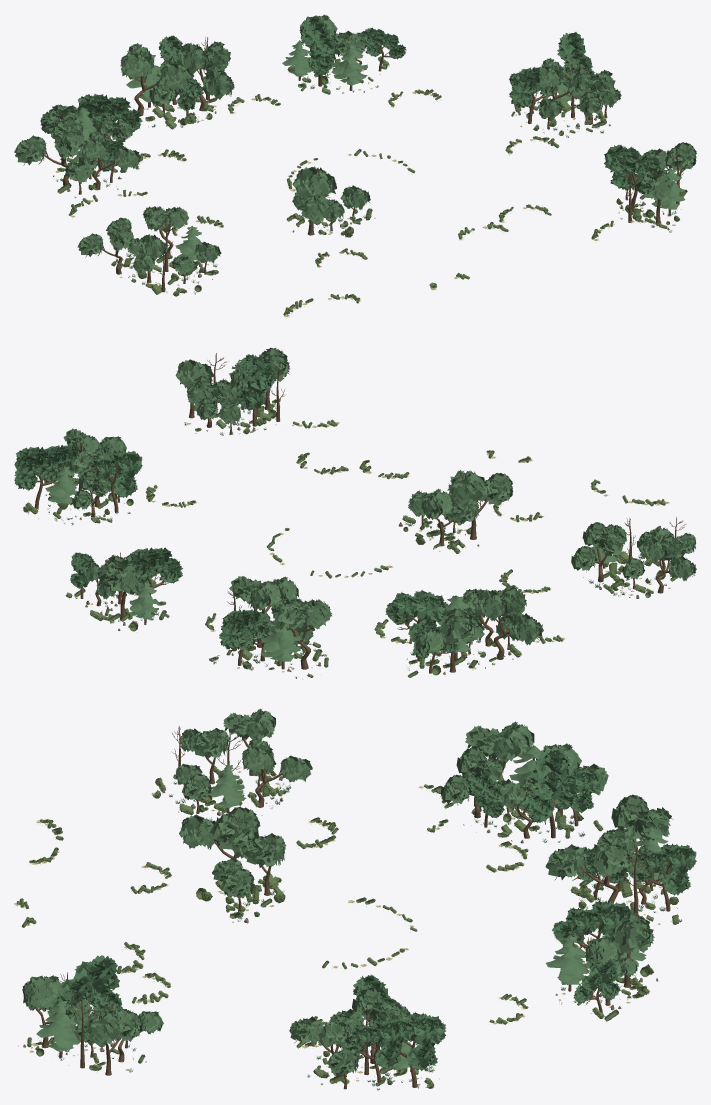
Rendered from atlas-v82-rocket-landscape.glb.
The picture shows the model from 3 angles, top to bottom: view 1: azimuth 30°, elevation 25°; view 2: azimuth 150°, elevation 25°; view 3: azimuth 270°, elevation 25°; orthographic projection. The views are drawn at different scales.
Parts seen in each view (by area): view 1: v82-rocket-tree-020, v82-rocket-tree-013, v82-rocket-tree-021, v82-rocket-tree-056, v82-rocket-tree-045, v82-rocket-tree-028, v82-rocket-tree-039, v82-rocket-tree-017, v82-rocket-tree-008, v82-rocket-tree-018, v82-rocket-tree-043, v82-rocket-tree-002 (+19 smaller); view 2: v82-rocket-tree-013, v82-rocket-tree-056, v82-rocket-tree-017, v82-rocket-tree-038, v82-rocket-tree-021, v82-rocket-tree-015, v82-rocket-tree-028, v82-rocket-tree-043, v82-rocket-tree-045, v82-rocket-tree-020, v82-rocket-tree-002, v82-rocket-tree-008 (+18 smaller); view 3: v82-rocket-tree-020, v82-rocket-tree-017, v82-rocket-tree-056, v82-rocket-tree-045, v82-rocket-tree-038, v82-rocket-tree-025, v82-rocket-tree-028, v82-rocket-tree-031, v82-rocket-tree-013, v82-rocket-tree-018, v82-rocket-tree-037, v82-rocket-tree-039 (+22 smaller).
Part boxes in pixels (bbox=[...]): v82-rocket-tree-020: bbox=[176, 41, 234, 111]; v82-rocket-tree-013: bbox=[14, 116, 84, 185]; v82-rocket-tree-021: bbox=[120, 43, 193, 115]; v82-rocket-tree-056: bbox=[292, 167, 336, 235]; v82-rocket-tree-045: bbox=[604, 144, 666, 212]; v82-rocket-tree-028: bbox=[299, 16, 337, 86]; v82-rocket-tree-039: bbox=[570, 67, 615, 124]; v82-rocket-tree-017: bbox=[76, 94, 142, 136]; v82-rocket-tree-008: bbox=[77, 217, 134, 274]; v82-rocket-tree-018: bbox=[81, 131, 141, 190]; v82-rocket-tree-043: bbox=[509, 67, 558, 123]; v82-rocket-tree-002: bbox=[143, 206, 188, 259]; v82-rocket-tree-013: bbox=[472, 585, 543, 659]; v82-rocket-tree-056: bbox=[447, 470, 513, 539]; v82-rocket-tree-017: bbox=[385, 590, 448, 661]; v82-rocket-tree-038: bbox=[14, 447, 74, 508]; v82-rocket-tree-021: bbox=[271, 598, 332, 669]; v82-rocket-tree-015: bbox=[415, 608, 475, 672]; v82-rocket-tree-028: bbox=[125, 547, 182, 595]; v82-rocket-tree-043: bbox=[77, 450, 142, 512]; v82-rocket-tree-045: bbox=[235, 354, 276, 426]; v82-rocket-tree-020: bbox=[229, 576, 298, 647]; v82-rocket-tree-002: bbox=[571, 522, 624, 582]; v82-rocket-tree-008: bbox=[638, 533, 696, 593]; v82-rocket-tree-020: bbox=[545, 826, 635, 903]; v82-rocket-tree-017: bbox=[525, 749, 579, 838]; v82-rocket-tree-056: bbox=[179, 806, 260, 859]; v82-rocket-tree-045: bbox=[47, 955, 121, 1043]; v82-rocket-tree-038: bbox=[376, 1012, 446, 1087]; v82-rocket-tree-025: bbox=[627, 843, 696, 911]; v82-rocket-tree-028: bbox=[552, 900, 633, 955]; v82-rocket-tree-031: bbox=[585, 912, 654, 987]; v82-rocket-tree-013: bbox=[465, 721, 534, 805]; v82-rocket-tree-018: bbox=[441, 747, 505, 818]; v82-rocket-tree-037: bbox=[341, 1018, 402, 1082]; v82-rocket-tree-039: bbox=[289, 1009, 364, 1075].
Bounding box in the file's own units: 75.33 × 8.2 × 62.95.
